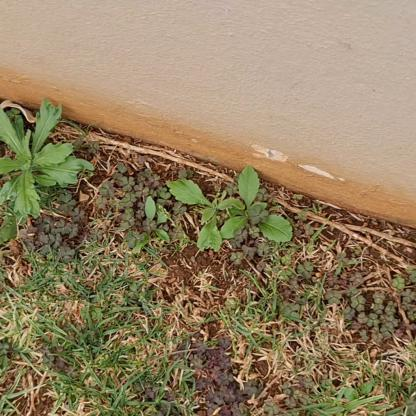Weeds: (0, 96, 92, 223), (168, 173, 248, 252), (220, 164, 294, 248)
